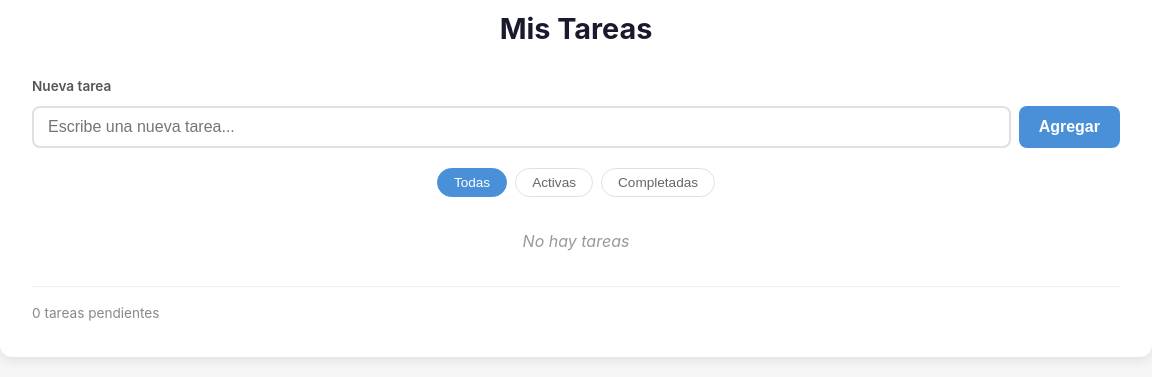
Scenario: TodoApp › Cuando el usuario elimina una tarea › deberia quitar la tarea de la lista
Type "Sacar la basura antes de las diez" into the field labelled "Nueva tarea" at (521, 127), box [32,106,1011,148]
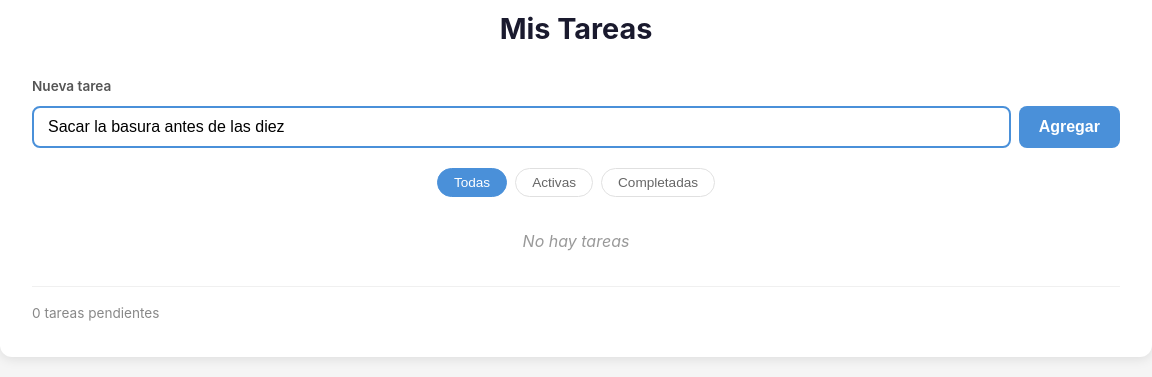
Click the button "Agregar" at (1069, 127), box [1019,106,1120,148]
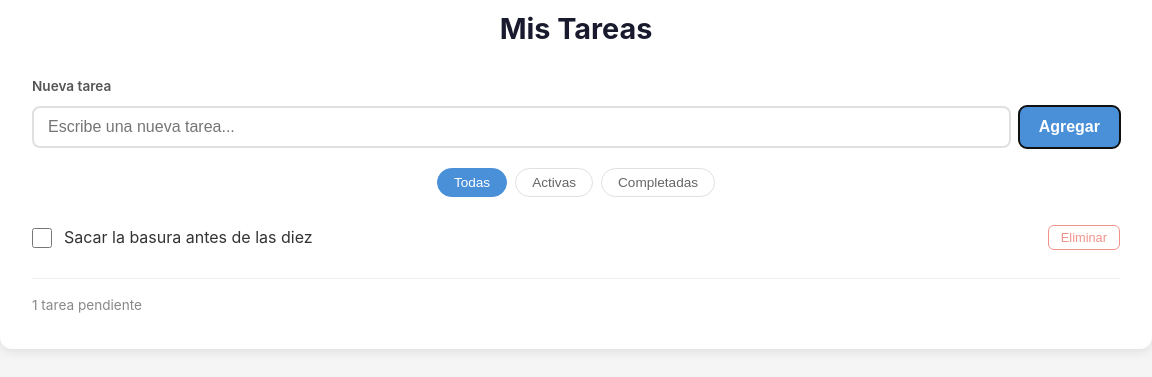
Click the button with aria-label "eliminar sacar la basura" at (1084, 238), box [1048,225,1120,250]
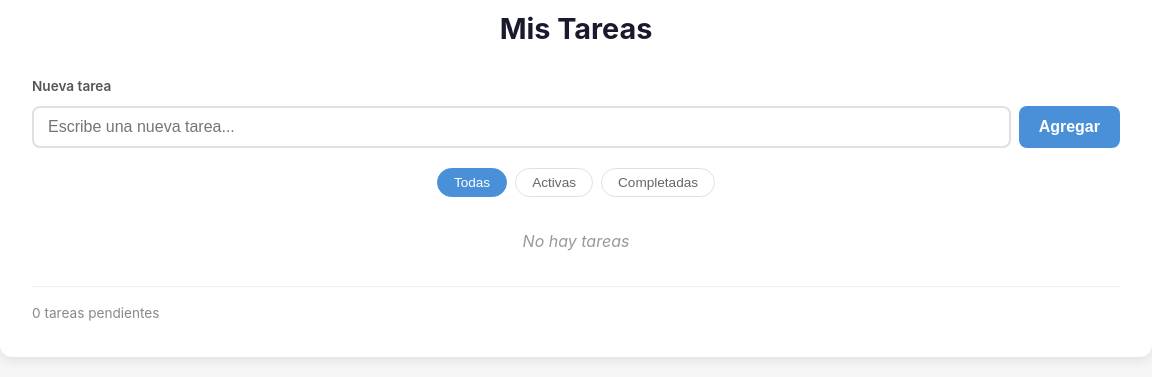
Check: the text "Sacar la basura antes de las diez" is gone
Check: the text "No hay tareas" is shown, box [523,231,629,251]
